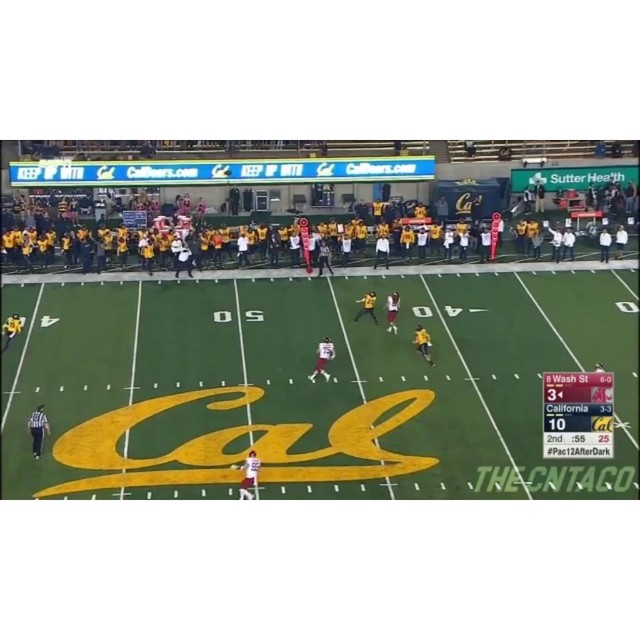american-football-player: (236, 449, 262, 500), (309, 335, 336, 384), (413, 323, 436, 367), (352, 291, 379, 326), (1, 313, 24, 352), (384, 291, 401, 333)
referee: (26, 404, 51, 461)
